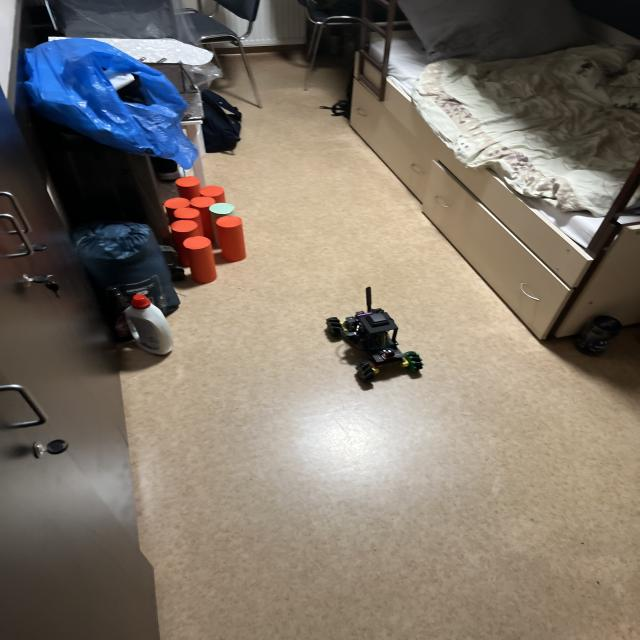robot: (326, 287, 423, 381)
